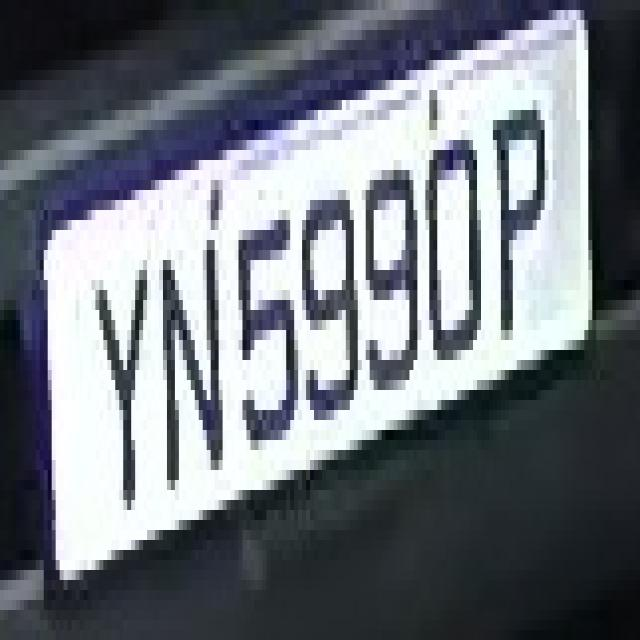0: (409, 110, 485, 390)
5: (235, 180, 298, 450)
9: (354, 130, 429, 410), (294, 180, 366, 470)
N: (147, 230, 227, 520)
P: (485, 80, 553, 370)
Y: (80, 220, 159, 550)
